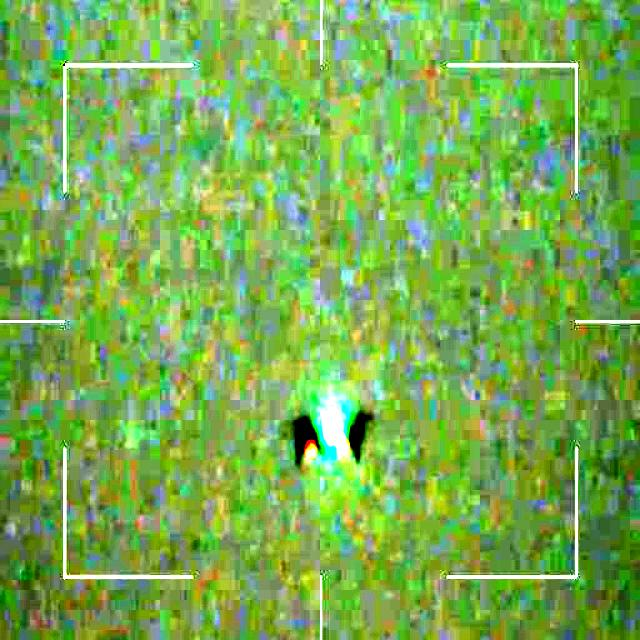bird: (290, 400, 375, 464)
